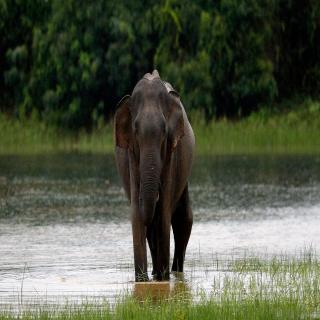Elephant: (110, 68, 200, 290)
